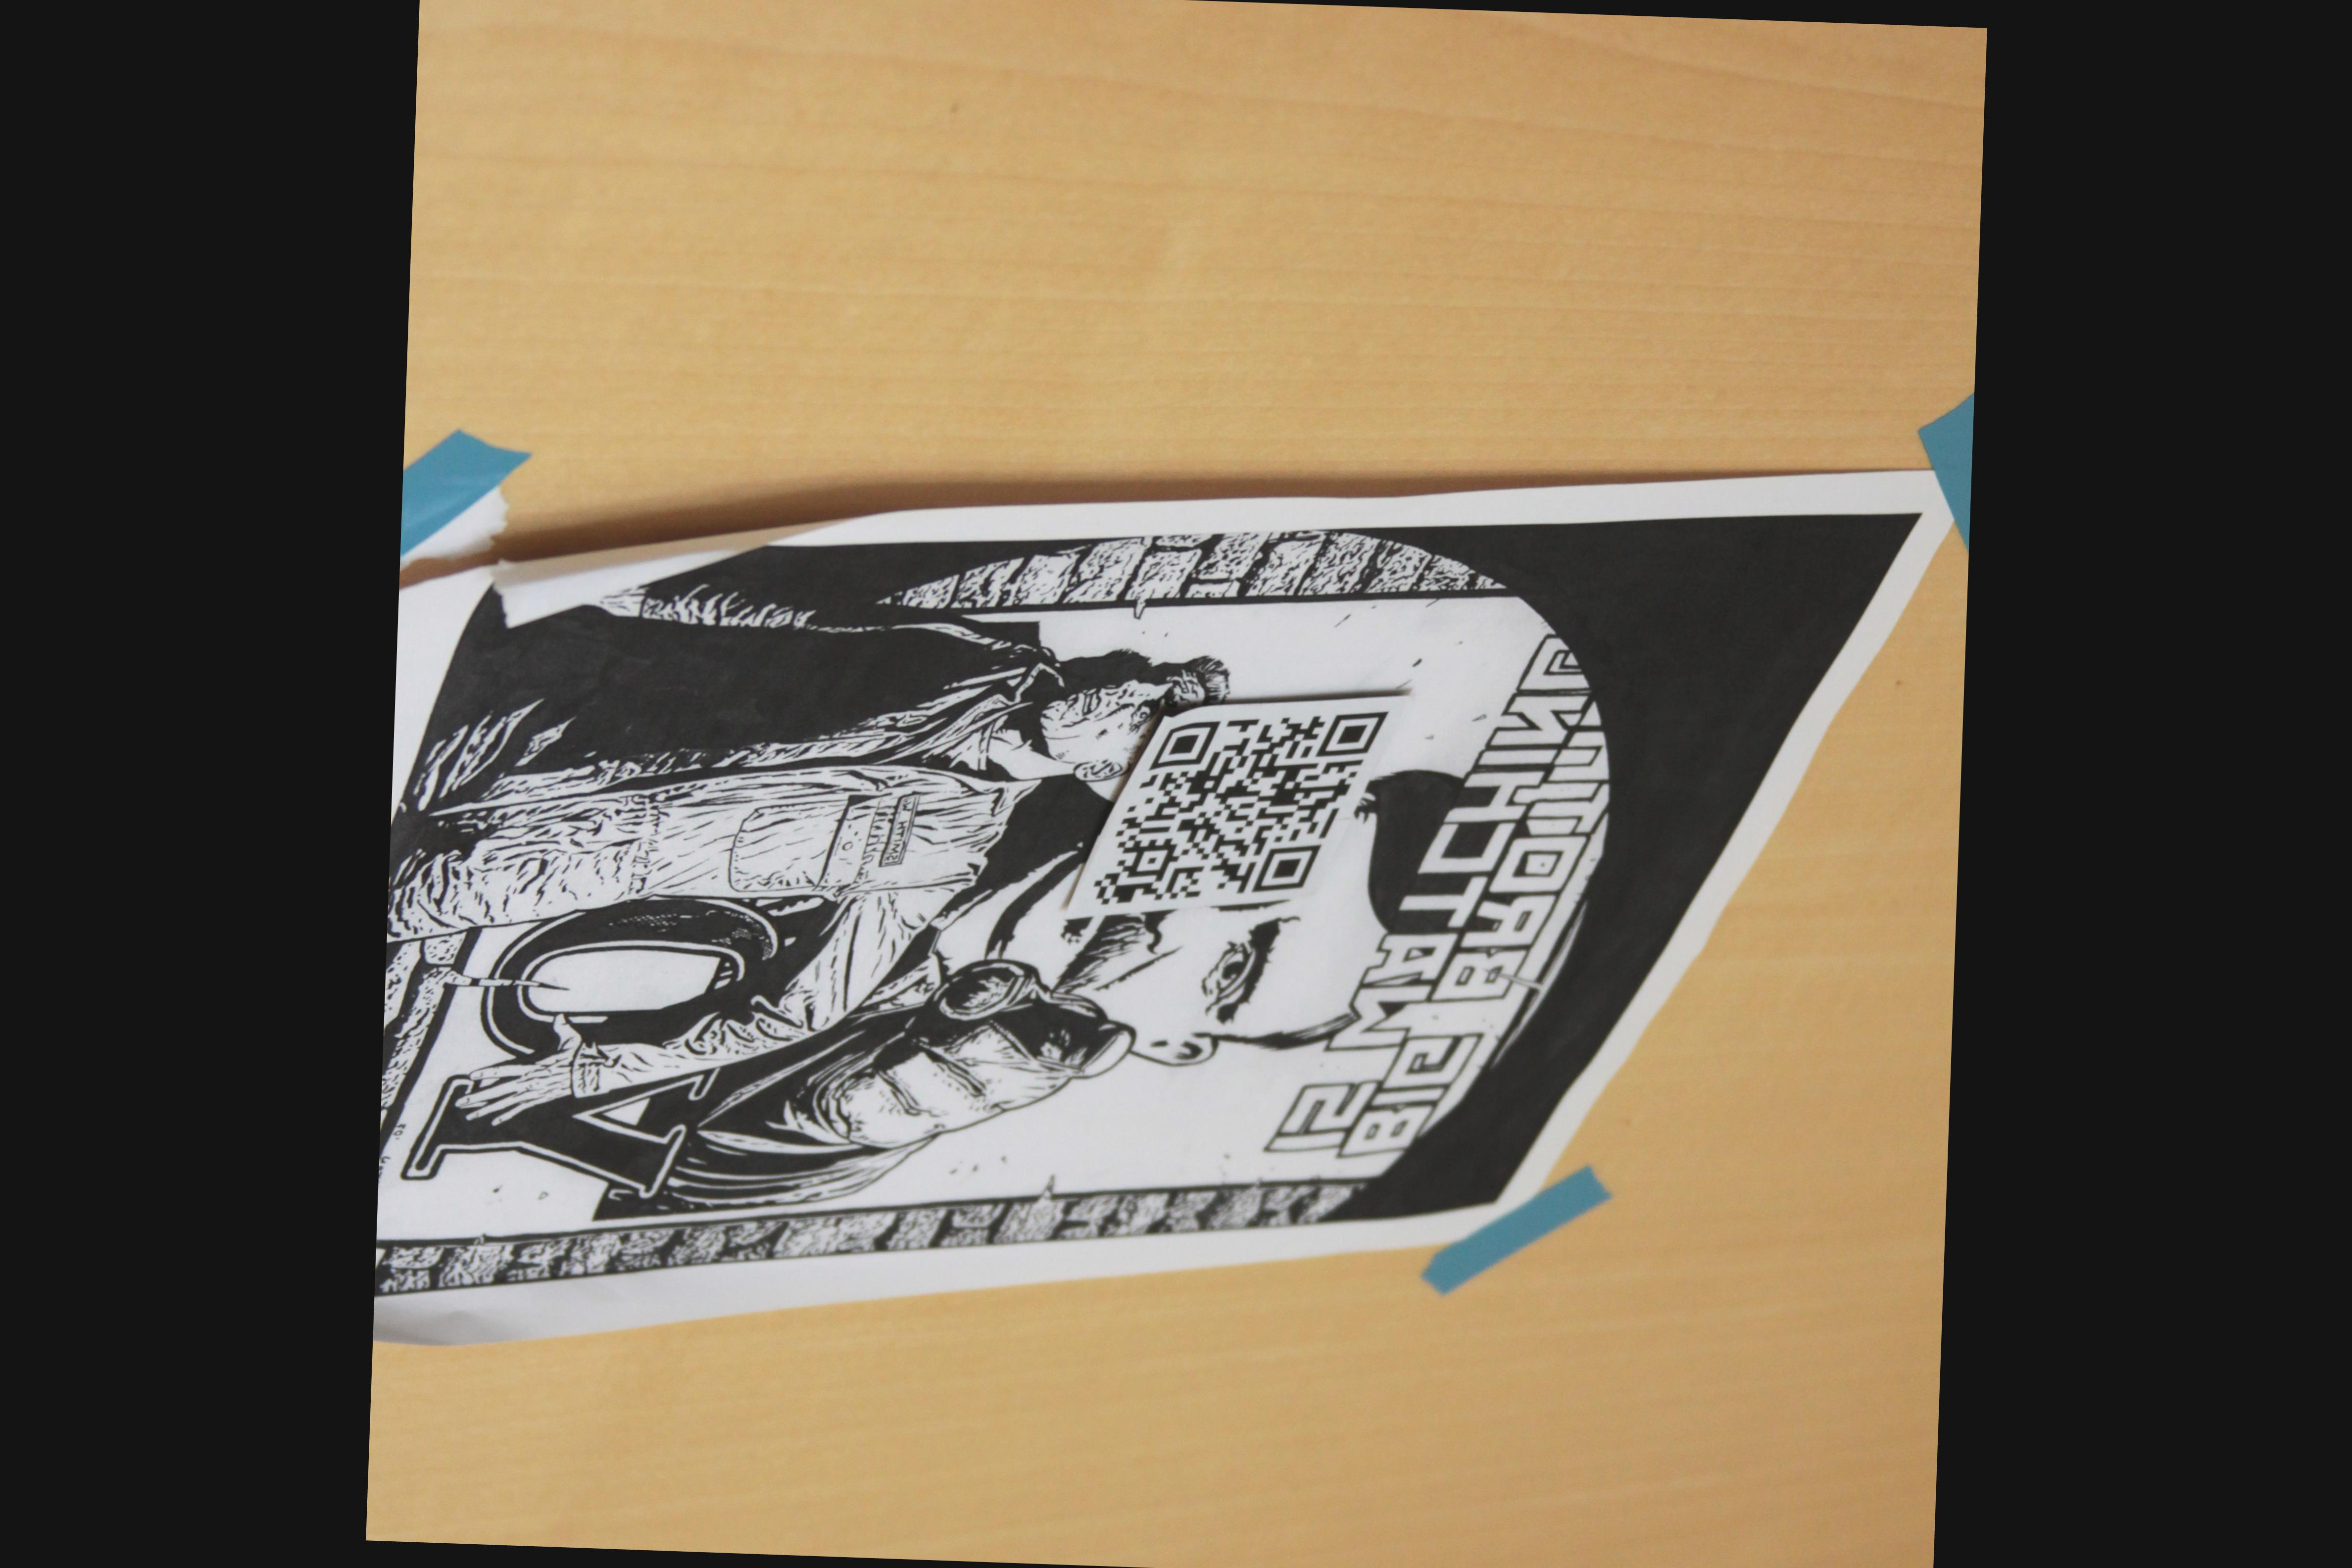QR: (1066, 684, 1405, 920)
